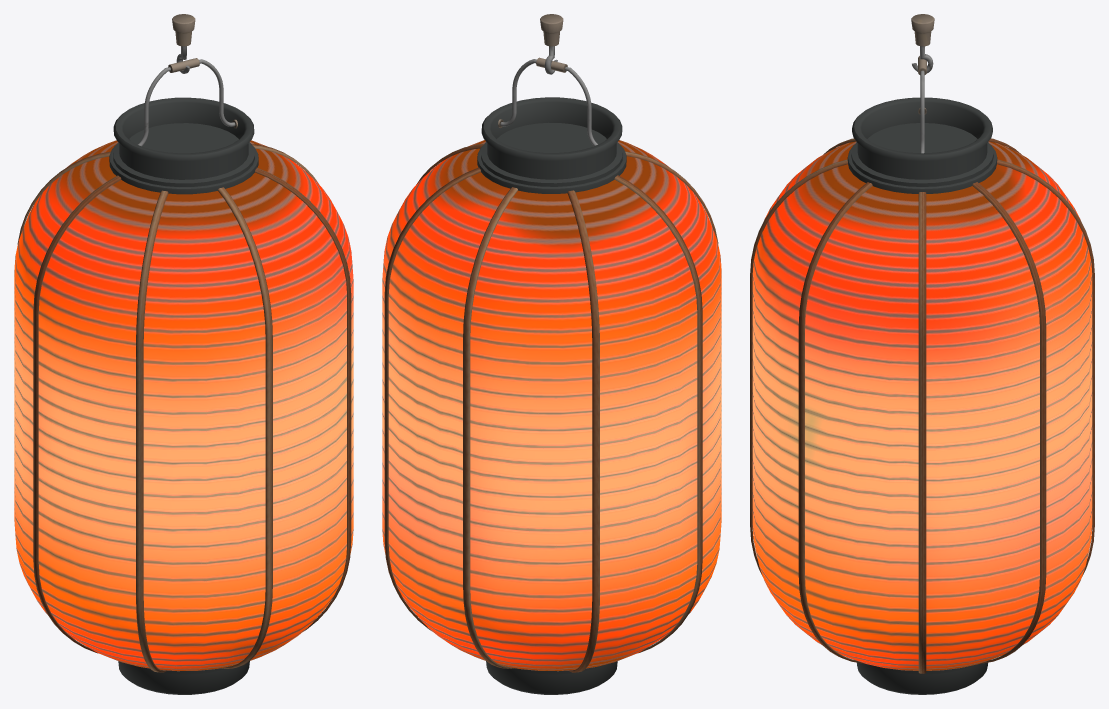
3 views of the same model, side by side, from view 1: azimuth 30°, elevation 25°; view 2: azimuth 150°, elevation 25°; view 3: azimuth 270°, elevation 25° (orthographic).
Visible parts, largest first — view 1: Big_Chochin_M__0; view 2: Big_Chochin_M__0; view 3: Big_Chochin_M__0.
Part boxes in pixels (left/top/right/bottom): Big_Chochin_M__0: left=14, top=14, right=353, bottom=694; Big_Chochin_M__0: left=382, top=14, right=721, bottom=694; Big_Chochin_M__0: left=750, top=14, right=1094, bottom=694.
Bounding box in the file's own units: 88.4 × 184 × 88.4.
Materials: 1 (1 with a texture image).
